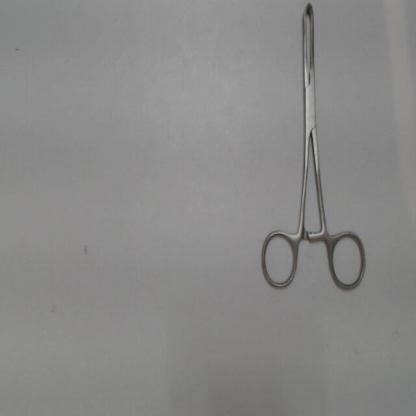Allis Tissue Forceps: (255, 0, 374, 295)
